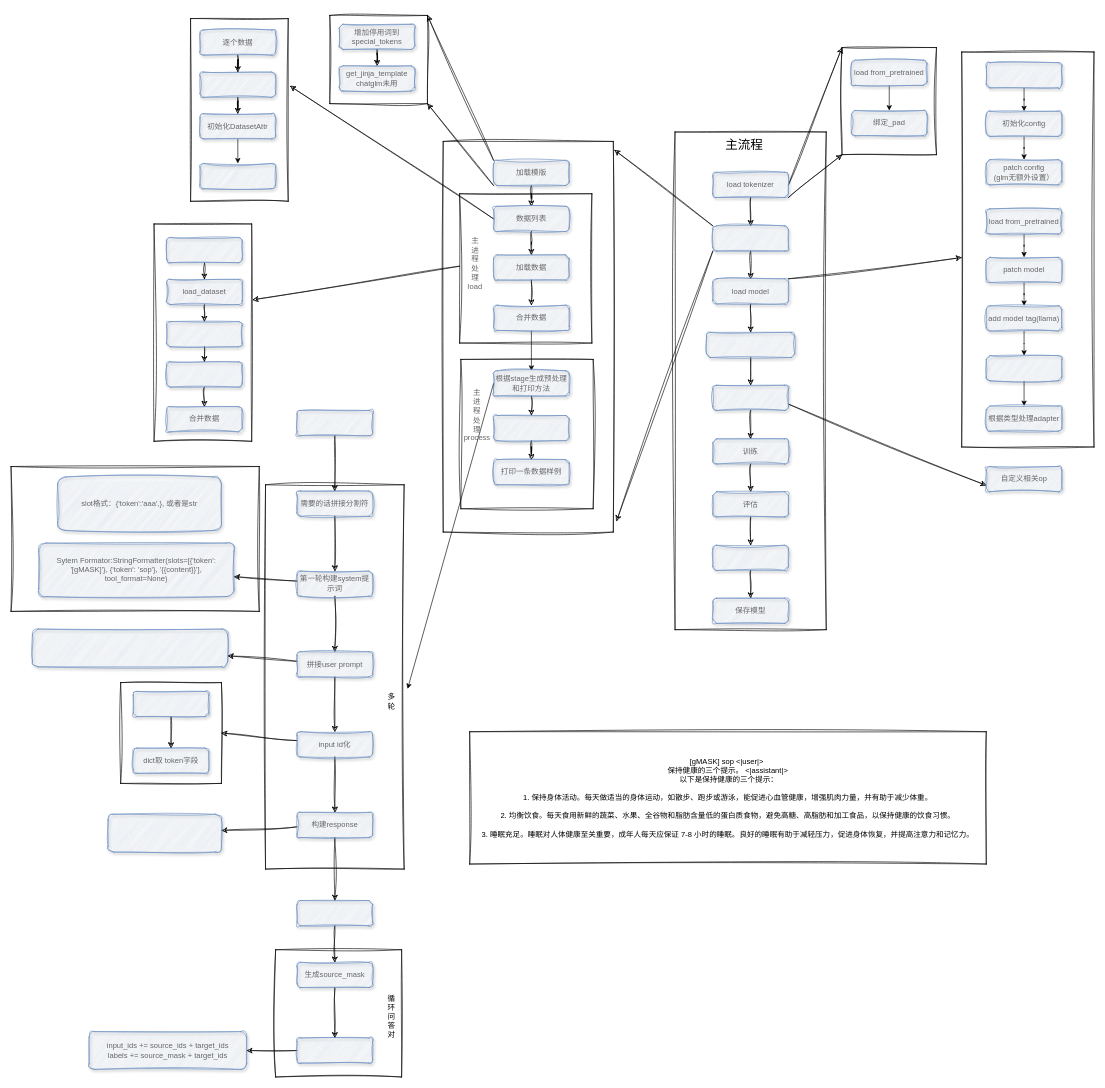
Image size: 1105x1088. Some labels were removed from this diagram. The centre of each missing label's shape, as x and y in pixels:
"['\n', '{{content}}']" goes at point (165, 833).
"[{'token': '<|user|>'}, '\n', '保持健康的三个提示。', {'token': '<|assistant|>'}]" goes at point (130, 648).
"load dataset" goes at point (751, 239).
"str 直接id化" goes at point (171, 704).
"初始化trainer" goes at point (751, 398).
"初始化参数" goes at point (1024, 76).
"加载dataset_info.json" goes at point (238, 85).
"形成DataSetAttrList" goes at point (238, 176).
"形成文件列表" goes at point (204, 250).
"数据拼装,ID化" goes at point (531, 428).
"构建DataCollatorForSeq2Seq" goes at point (751, 345).
"构建prompt,response对" goes at point (335, 423).
"构建多轮问答对" goes at point (335, 913).
"注册autoclass" goes at point (1024, 368).
"累加input_ids,labels" goes at point (335, 1051).
"输入数据进行格式化" goes at point (204, 375).
"选取样本数量" goes at point (204, 334).
"预测" goes at point (751, 558).
